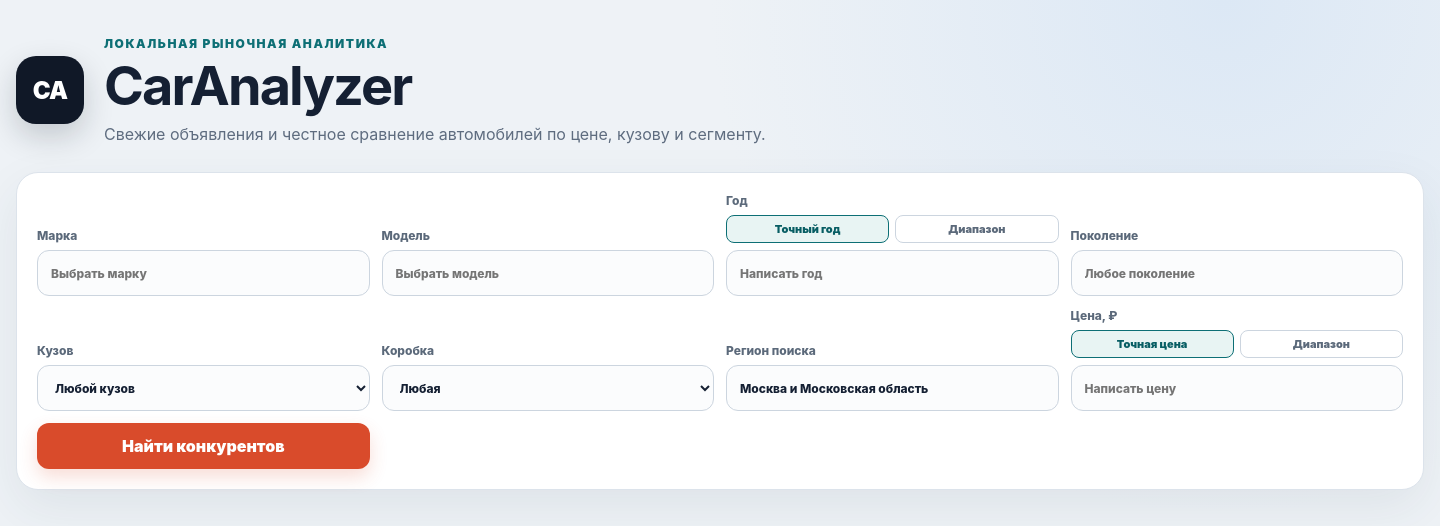
it: CarAnalyzer form › shows an explicit no-generation status without selecting an option
This screenshot has width=1440, height=526.
Step 1. Type "Example Brand" into the dropdown labelled "Марка" → (203, 273), box [37,250,370,296]
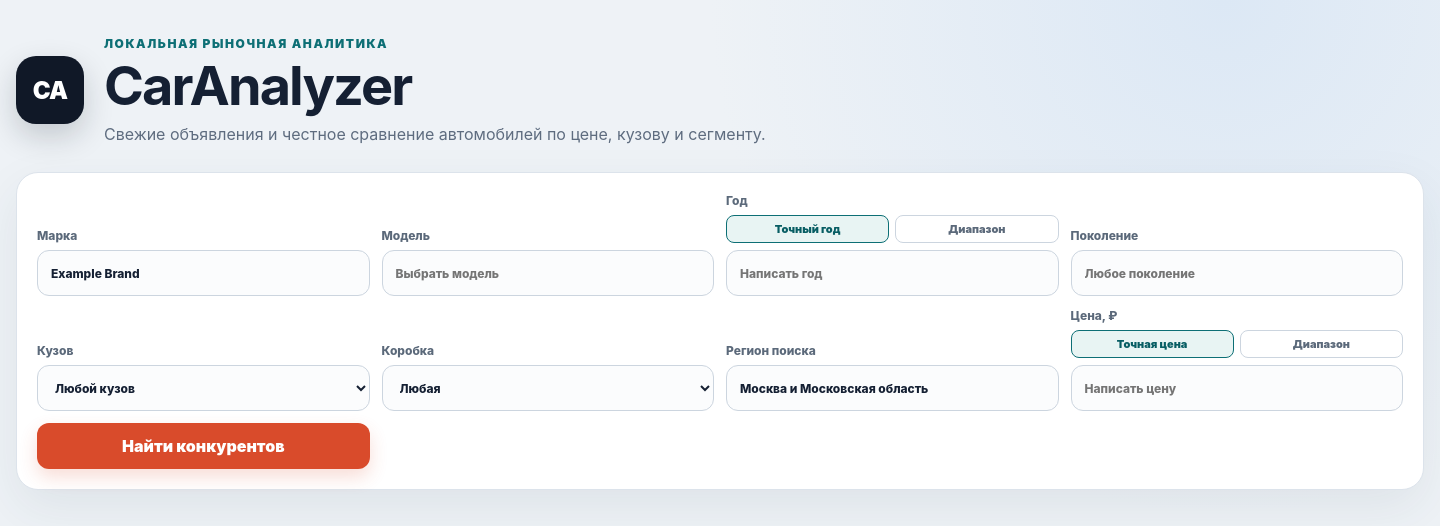
Step 2. Type "Example Model" into the dropdown labelled "Модель" → (548, 273), box [382,250,714,296]
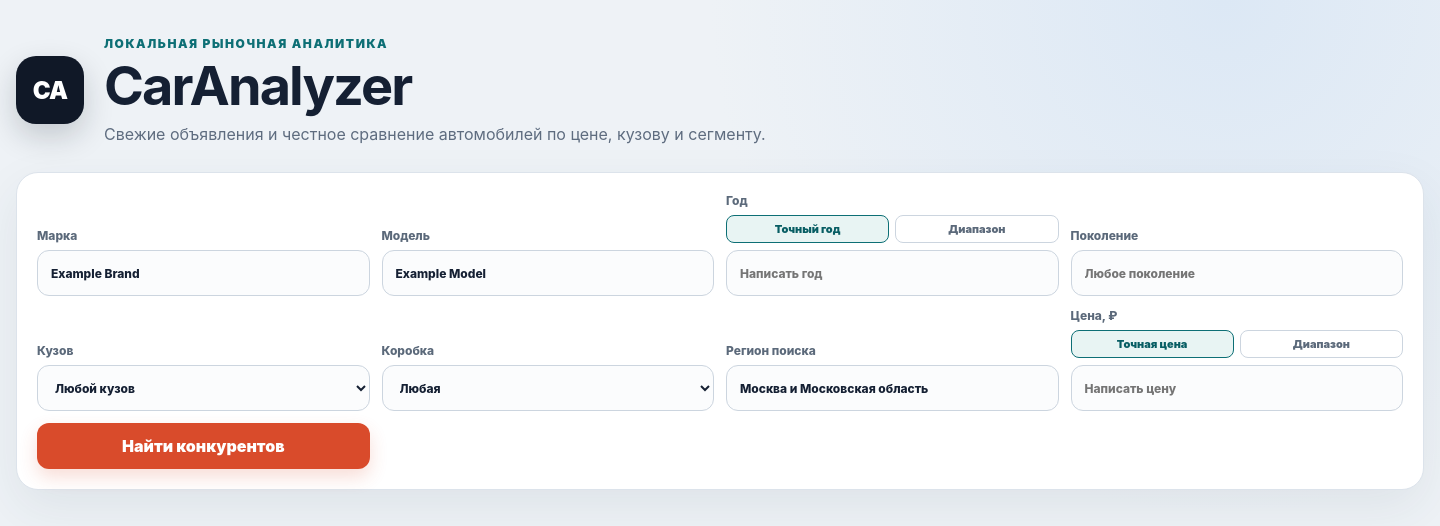
Step 3. Type "2016" into the number field labelled "год" → (892, 273), box [726,250,1058,296]
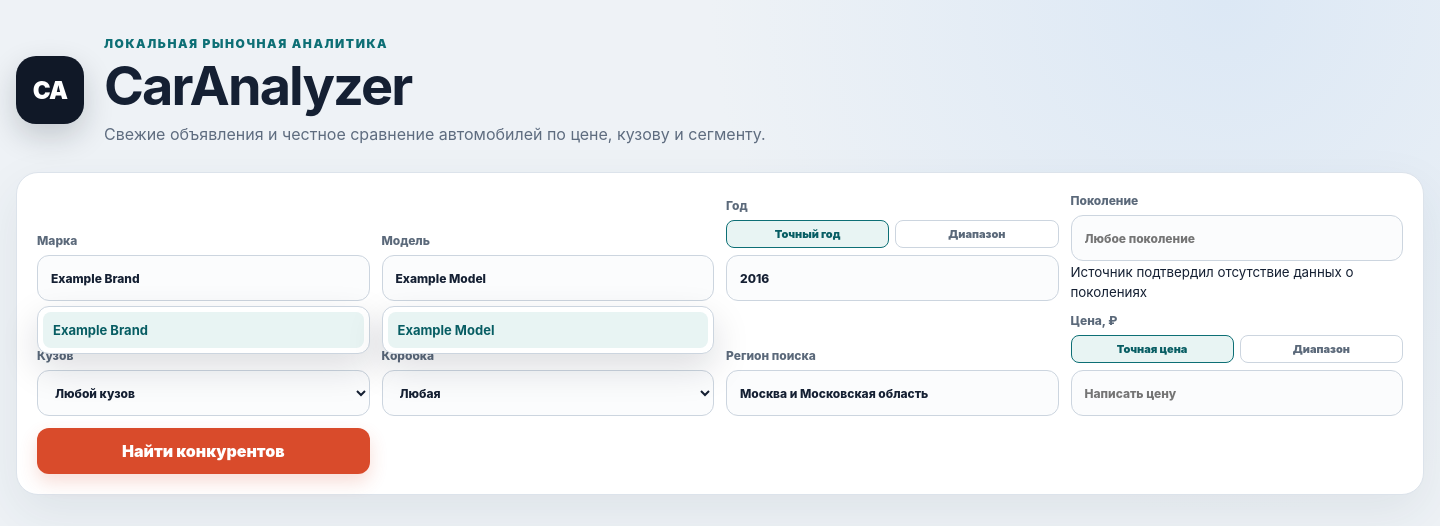
Expected: the dropdown labelled "Поколение" is disabled, [1070,215,1403,261]
Now the text "Источник подтвердил отсутствие данных о поколениях" is shown, box [1070,264,1354,300]
